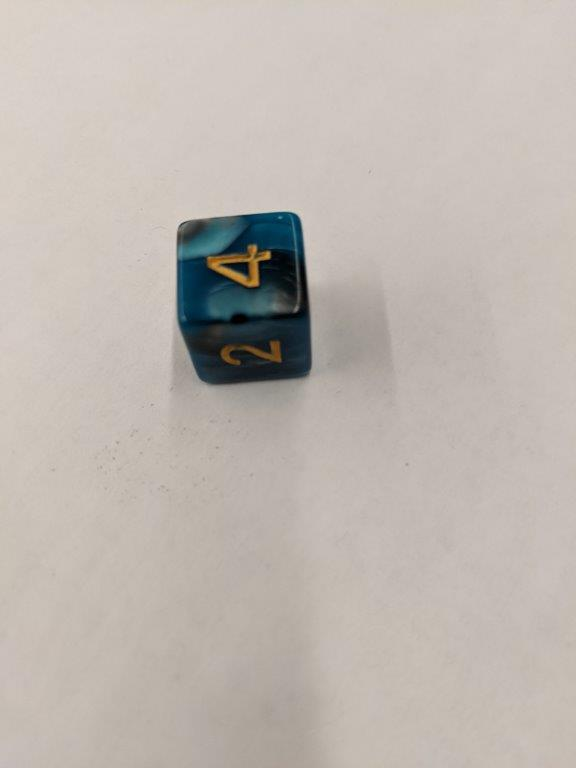d6-4: (175, 210, 314, 386)
